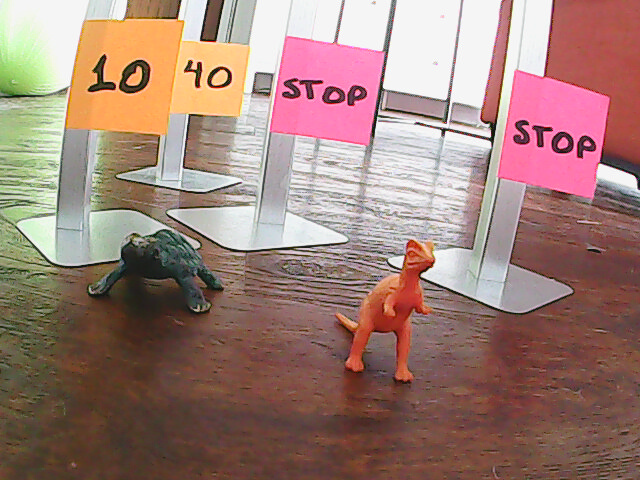10: (79, 30, 164, 133)
40: (178, 44, 239, 115)
dinosaur: (327, 232, 439, 392)
stop: (507, 93, 599, 194), (278, 56, 376, 135)
turtle: (84, 225, 231, 325)
